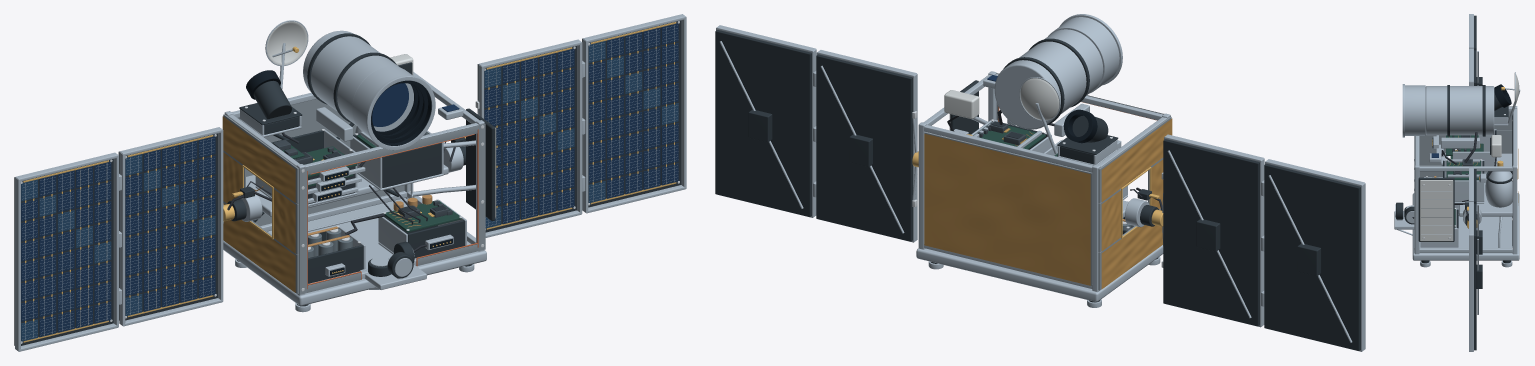
Rendered from satellite.glb.
The picture shows the model from 3 angles, left to right: view 1: azimuth 30°, elevation 25°; view 2: azimuth 150°, elevation 25°; view 3: azimuth 270°, elevation 25°; orthographic projection. The views are drawn at different scales.
Visible parts, largest first — view 1: SolarArrayLeft — Blue photovoltaic cells, SolarArrayRight — Blue photovoltaic cells, SolarArrayLeft — Machined satin aluminum, SolarArrayRight — Machined satin aluminum, Structure — Machined satin aluminum, Payload — Machined satin aluminum, Structure — MLI inner layer, Structure — Representative MLI outer layer, SolarArrayLeft — Anodized chassis, SolarArrayRight — Anodized chassis, SolarArrayLeft — Photovoltaic cell variation, SolarArrayRight — Photovoltaic cell variation (+22 smaller); view 2: SolarArrayLeft — Anodized chassis, SolarArrayRight — Anodized chassis, Structure — Representative MLI outer layer, Structure — Machined satin aluminum, Payload — Machined satin aluminum, SolarArrayLeft — Machined satin aluminum, SolarArrayRight — Machined satin aluminum, Links — White antenna and terminal finish, Structure — MLI inner layer, Attitude — Anodized chassis, Payload — Anodized chassis, Computer — Machined satin aluminum (+3 smaller); view 3: Structure — Machined satin aluminum, Payload — Machined satin aluminum, Radiator — Radiator coating, Computer — Machined satin aluminum, Structure — MLI inner layer, SolarArrayRight — Machined satin aluminum, Propulsion — Machined satin aluminum, SolarArrayRight — Anodized chassis, Computer — Midnight circuit laminate, SolarArrayLeft — Machined satin aluminum, Links — White antenna and terminal finish, Radiator — Anodized chassis (+13 smaller).
Boxes of the visible parts, x1,y1,x2,y2 form: SolarArrayLeft — Blue photovoltaic cells: [21, 136, 215, 337]; SolarArrayRight — Blue photovoltaic cells: [484, 23, 678, 224]; SolarArrayLeft — Machined satin aluminum: [15, 127, 223, 351]; SolarArrayRight — Machined satin aluminum: [478, 14, 686, 237]; Structure — Machined satin aluminum: [223, 72, 486, 305]; Payload — Machined satin aluminum: [303, 30, 435, 150]; Structure — MLI inner layer: [223, 99, 485, 294]; Structure — Representative MLI outer layer: [222, 116, 295, 292]; SolarArrayLeft — Anodized chassis: [14, 133, 217, 345]; SolarArrayRight — Anodized chassis: [477, 20, 681, 232]; SolarArrayLeft — Photovoltaic cell variation: [21, 154, 215, 341]; SolarArrayRight — Photovoltaic cell variation: [484, 41, 678, 228]; SolarArrayLeft — Anodized chassis: [1163, 139, 1360, 350]; SolarArrayRight — Anodized chassis: [715, 30, 912, 241]; Structure — Representative MLI outer layer: [924, 118, 1172, 289]; Structure — Machined satin aluminum: [916, 71, 1170, 301]; Payload — Machined satin aluminum: [994, 14, 1122, 136]; SolarArrayLeft — Machined satin aluminum: [1164, 134, 1365, 351]; SolarArrayRight — Machined satin aluminum: [716, 25, 917, 242]; Links — White antenna and terminal finish: [944, 78, 1059, 120]; Structure — MLI inner layer: [924, 73, 1171, 290]; Attitude — Anodized chassis: [1057, 115, 1118, 164]; Payload — Anodized chassis: [1003, 38, 1089, 125]; Computer — Machined satin aluminum: [971, 120, 1127, 199]; Structure — Machined satin aluminum: [1412, 106, 1519, 260]; Payload — Machined satin aluminum: [1402, 84, 1494, 148]; Radiator — Radiator coating: [1420, 180, 1453, 241]; Computer — Machined satin aluminum: [1433, 129, 1496, 203]; Structure — MLI inner layer: [1414, 106, 1512, 253]; SolarArrayRight — Machined satin aluminum: [1469, 167, 1478, 351]; Propulsion — Machined satin aluminum: [1420, 166, 1512, 267]; SolarArrayRight — Anodized chassis: [1474, 169, 1482, 350]; Computer — Midnight circuit laminate: [1446, 135, 1483, 180]; SolarArrayLeft — Machined satin aluminum: [1469, 14, 1478, 85]; Links — White antenna and terminal finish: [1491, 73, 1519, 157]; Radiator — Anodized chassis: [1418, 177, 1454, 241].
Size of the model in its own units: 11.02 by 3.66 by 2.65.
